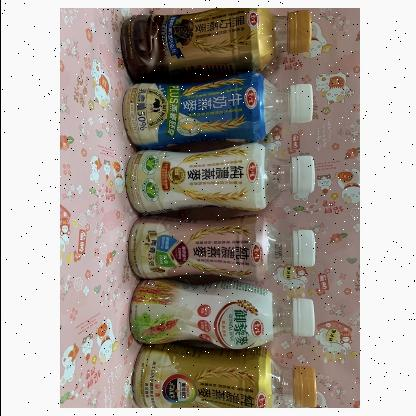Plastic Bottle: (122, 72, 312, 149), (120, 8, 310, 82), (125, 143, 314, 214), (130, 280, 314, 349), (128, 214, 314, 281), (132, 343, 316, 408)
